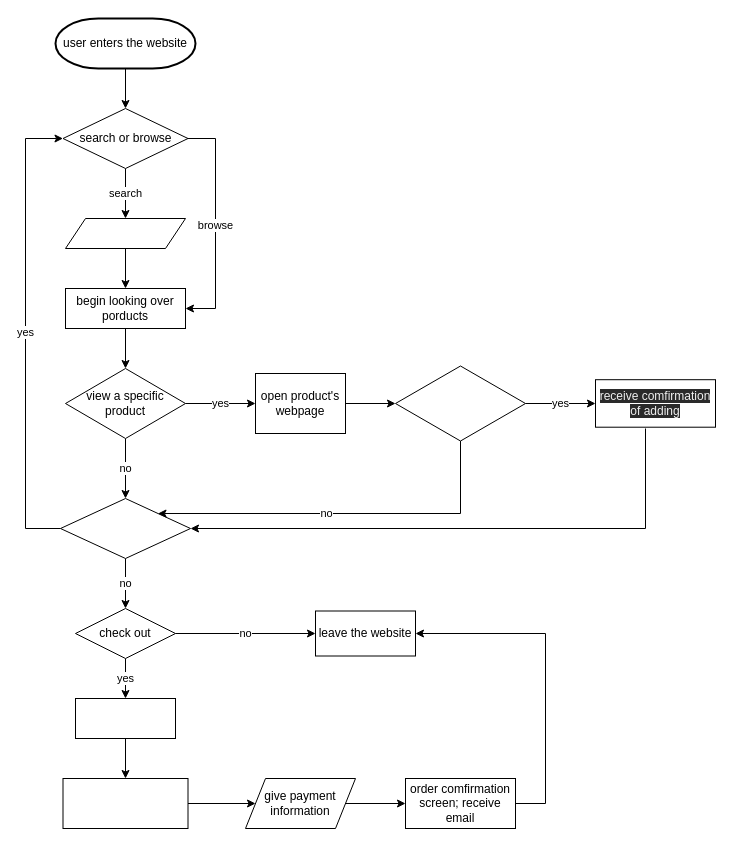
This 733x846 diagram has some shape labels left out. The box of each missing label's shape, as (x1, y1, x2, y2) in pixels:
add product to cart: (394, 365, 526, 441)
continue shopping: (60, 498, 190, 558)
input search: (64, 218, 186, 248)
View Cart screen: (74, 698, 176, 738)
View Payment screen: (62, 778, 188, 828)
